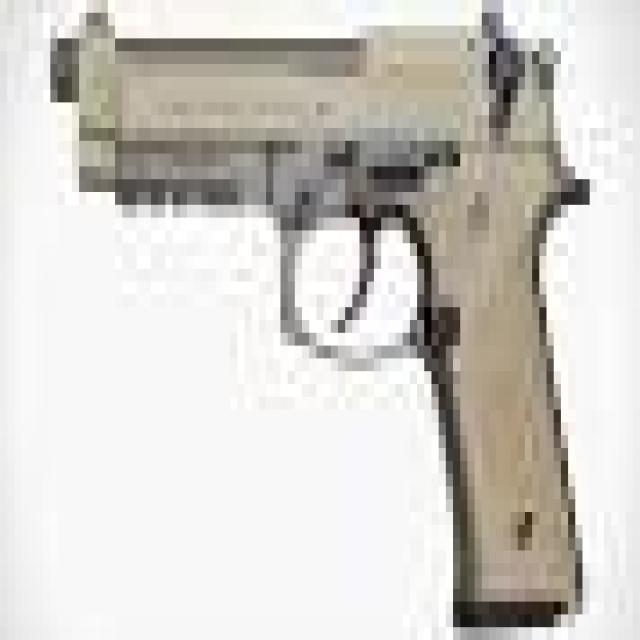pistol: (41, 1, 605, 640)
